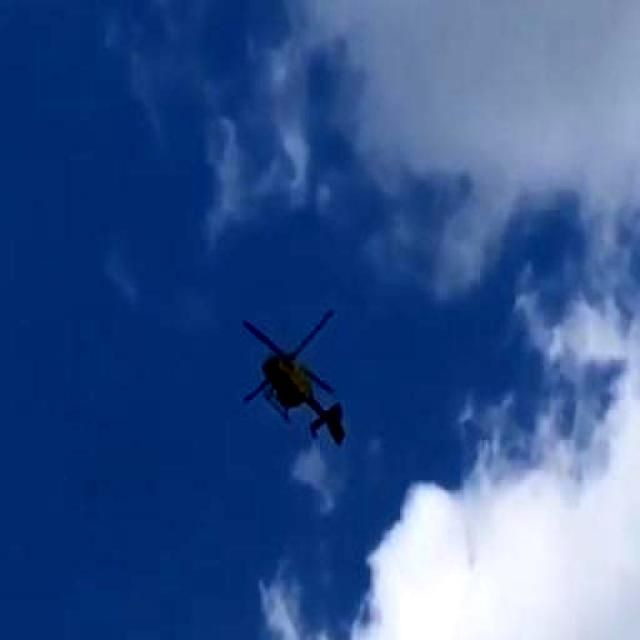drone: (192, 264, 374, 478)
